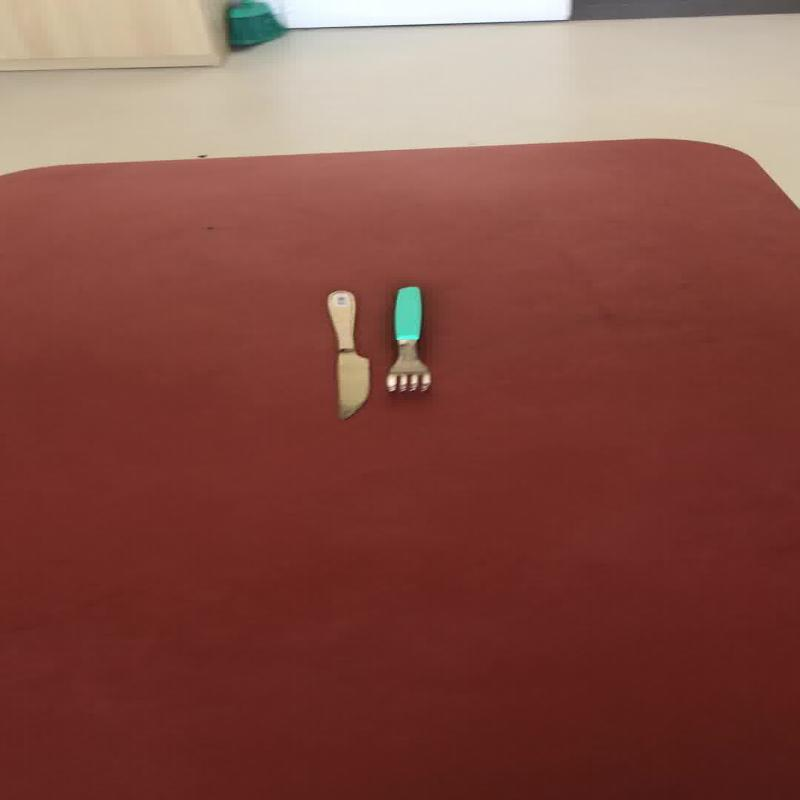fork: (324, 288, 370, 420), (383, 285, 430, 393)
knife: (324, 288, 370, 420)
